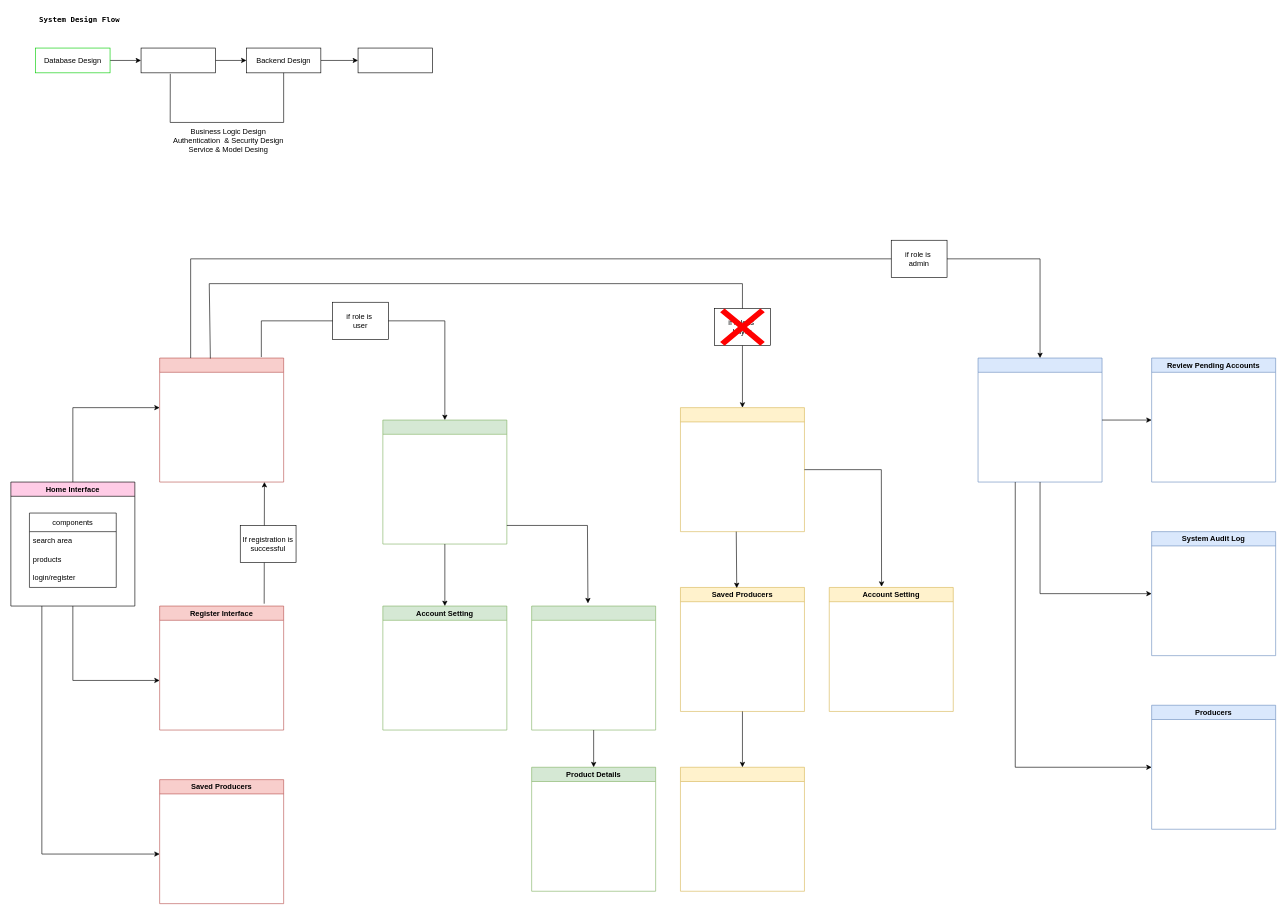
Some shapes in this 1287 by 915 pixel diagram are drawn without their labels. Each missing label, with the centre of its shape:
"Admin Dashboard" belongs at [1039,419].
"API Design" belongs at [177,60].
"Buyer Dashboard" belongs at [742,469].
"Frontend Design" belongs at [394,60].
"Login Interface" belongs at [221,419].
"Producer Account" belongs at [742,829].
"Producer Dashboard" belongs at [444,481].
"Product List" belongs at [593,667].
